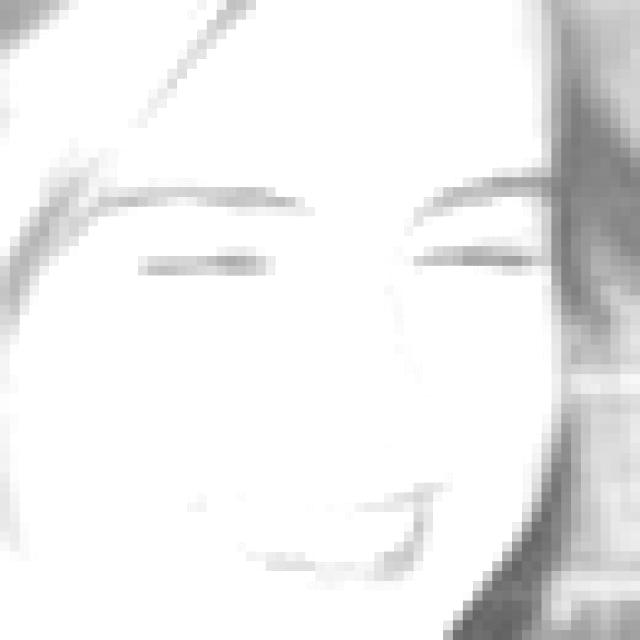real: (0, 0, 566, 640), (92, 178, 542, 318)
